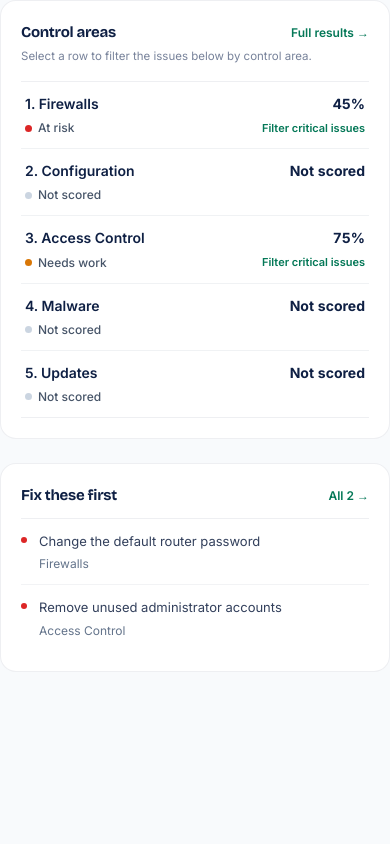
DashboardIssues › filters critical issues from the phone control selector while retaining the desktop score table
Expected: the text "Change the default router password" is shown, [39,531,260,552]
Expected: the text "Remove unused administrator accounts" is shown, [39,597,282,618]
Click the button with aria-label "filter issues by firewalls": (69, 103) [21,82,369,149]
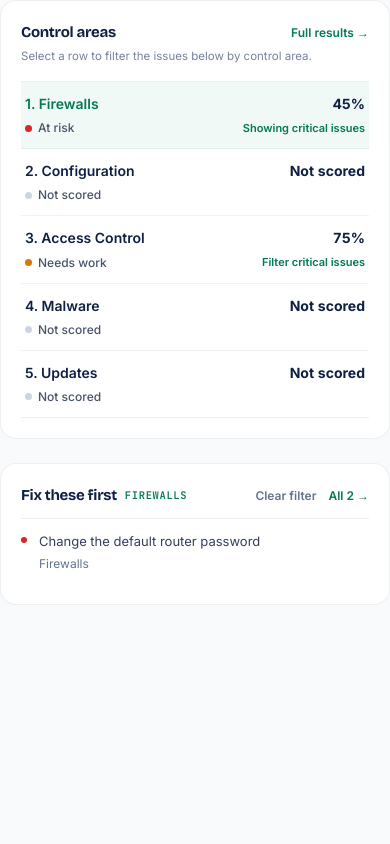
Expected: the text "Change the default router password" is shown, [39,531,260,552]
Result: the link "Remove unused administrator accounts" is gone
